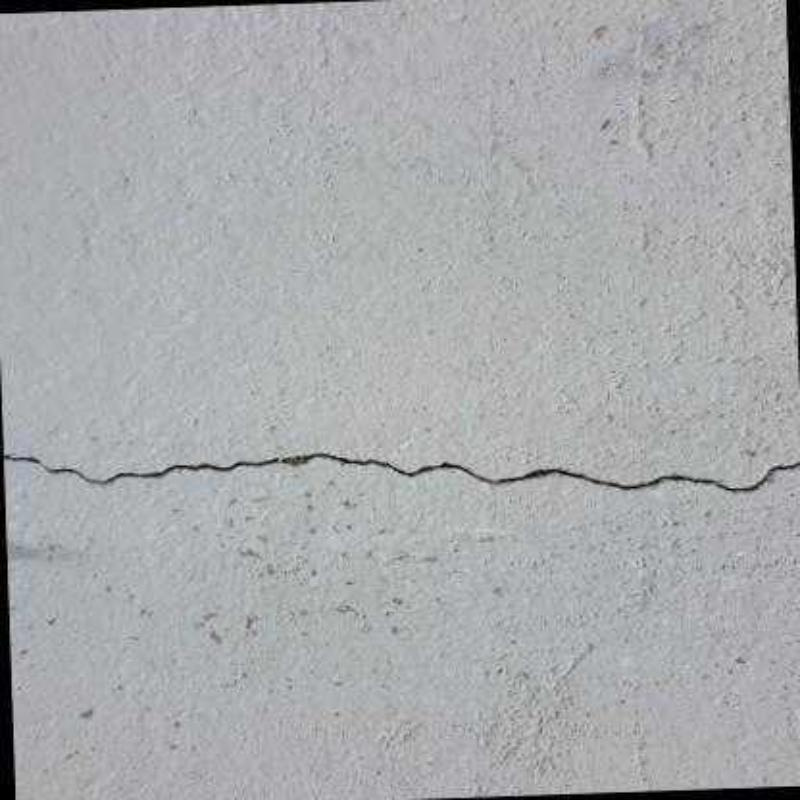pothole: (2, 452, 800, 491)
